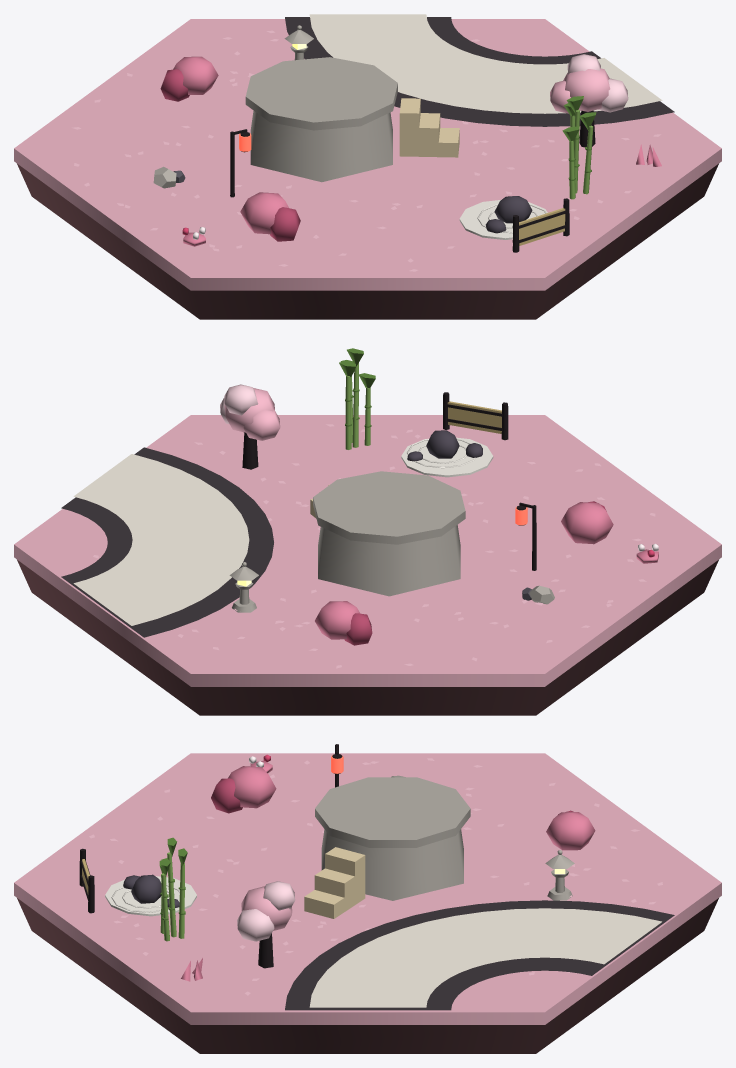
The model's file is tile_sentryBend.glb.
The picture shows the model from 3 angles, top to bottom: view 1: azimuth 30°, elevation 25°; view 2: azimuth 150°, elevation 25°; view 3: azimuth 270°, elevation 25°; orthographic projection.
Parts seen in each view (by area): view 1: ground, road, ground_soil, tower_slot_1_plate, tower_slot_1_podest, deco_tree_3, tower_slot_1, deco_bamboo, deco_karesansui_gravel, deco_bush_5_a, deco_bush_0_a, deco_karesansui (+4 smaller); view 2: ground, road, ground_soil, tower_slot_1_plate, tower_slot_1_podest, deco_tree_3, deco_bamboo, deco_karesansui_gravel, deco_bush_5_a, deco_karesansui, deco_bush_0_a, deco_petals (+2 smaller); view 3: ground, road, ground_soil, tower_slot_1_plate, tower_slot_1_podest, tower_slot_1, deco_tree_3, deco_bamboo, deco_bush_5_a, deco_karesansui_gravel, deco_bush_0_a, deco_karesansui (+2 smaller).
Part boxes in pixels (x1,y1,x2,y2): ground: [14, 19, 721, 290]; road: [285, 14, 674, 126]; ground_soil: [17, 163, 718, 319]; tower_slot_1_plate: [245, 57, 397, 130]; tower_slot_1_podest: [250, 110, 392, 182]; deco_tree_3: [550, 54, 628, 113]; tower_slot_1: [399, 98, 459, 157]; deco_bamboo: [562, 96, 596, 199]; deco_karesansui_gravel: [459, 199, 547, 239]; deco_bush_5_a: [240, 192, 288, 234]; deco_bush_0_a: [173, 56, 218, 94]; deco_karesansui: [477, 196, 546, 233]; ground: [14, 415, 721, 686]; road: [61, 447, 273, 637]; ground_soil: [17, 560, 718, 715]; tower_slot_1_plate: [313, 471, 465, 544]; tower_slot_1_podest: [318, 525, 460, 596]; deco_tree_3: [220, 384, 280, 440]; deco_bamboo: [339, 348, 375, 449]; deco_karesansui_gravel: [401, 437, 493, 477]; deco_bush_5_a: [561, 502, 613, 544]; deco_karesansui: [407, 430, 482, 468]; deco_bush_0_a: [315, 601, 360, 639]; deco_petals: [93, 424, 655, 668]; ground: [14, 753, 721, 1024]; road: [285, 900, 674, 1010]; ground_soil: [17, 898, 718, 1053]; tower_slot_1_plate: [315, 777, 470, 847]; tower_slot_1_podest: [321, 829, 463, 900]; tower_slot_1: [304, 847, 365, 918]; deco_tree_3: [237, 881, 295, 941]; deco_bamboo: [159, 837, 187, 941]; deco_bush_5_a: [228, 766, 276, 808]; deco_karesansui_gravel: [105, 876, 196, 916]; deco_bush_0_a: [546, 812, 595, 850]; deco_karesansui: [111, 874, 179, 912].
Size of the model in its own units: 1.73 by 0.445 by 2.
